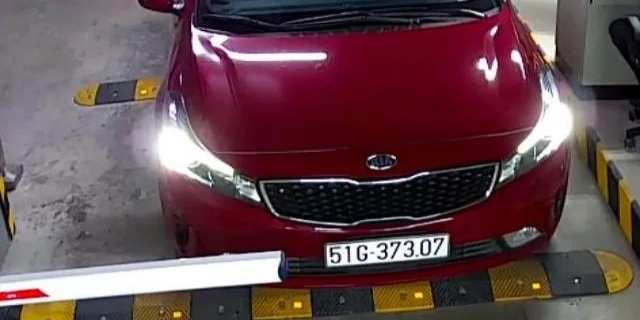bien_so: (326, 239, 450, 263)
